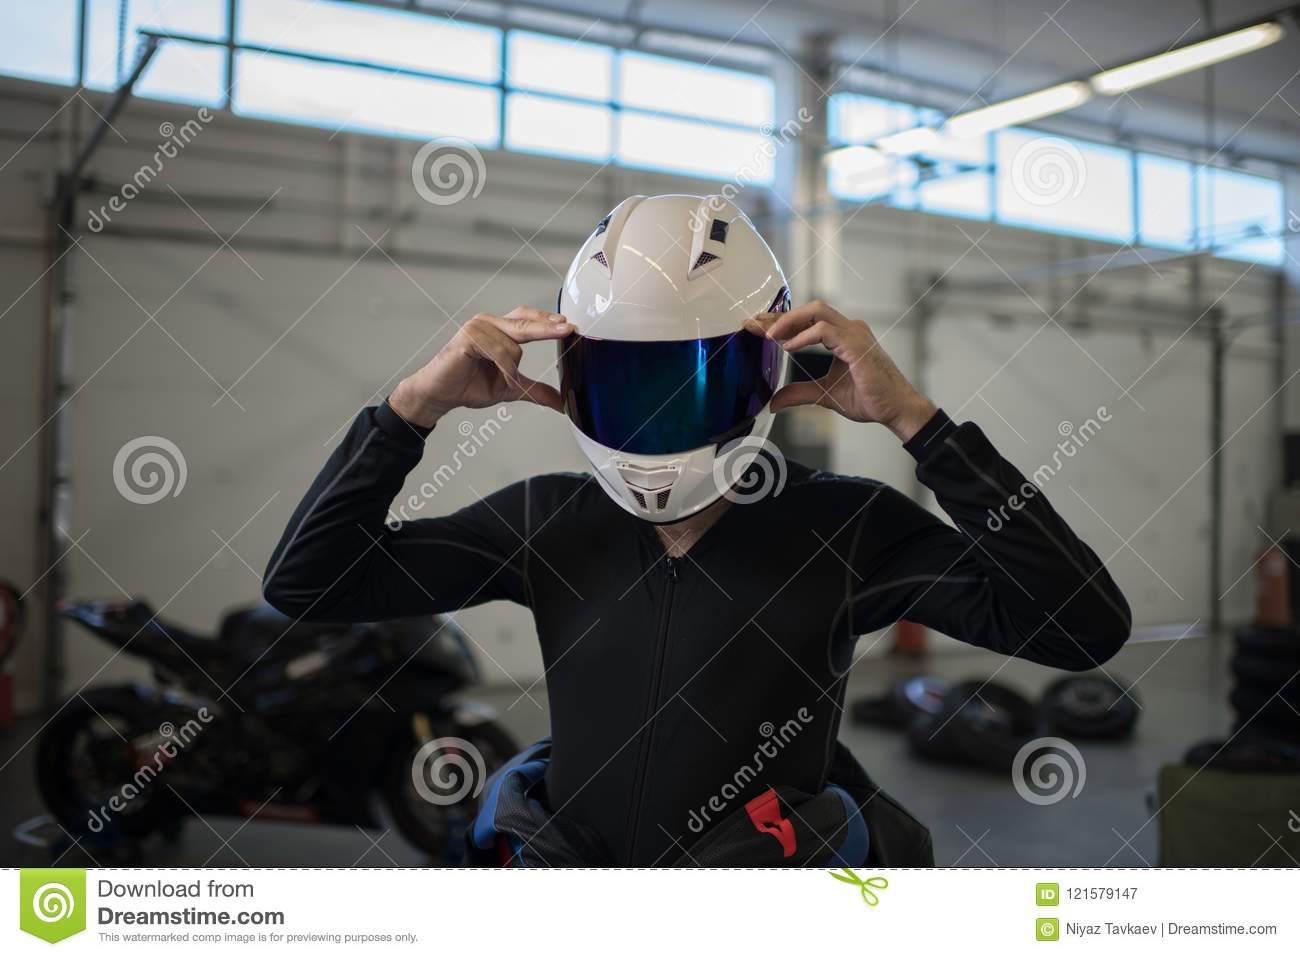helmet: (536, 174, 799, 524)
